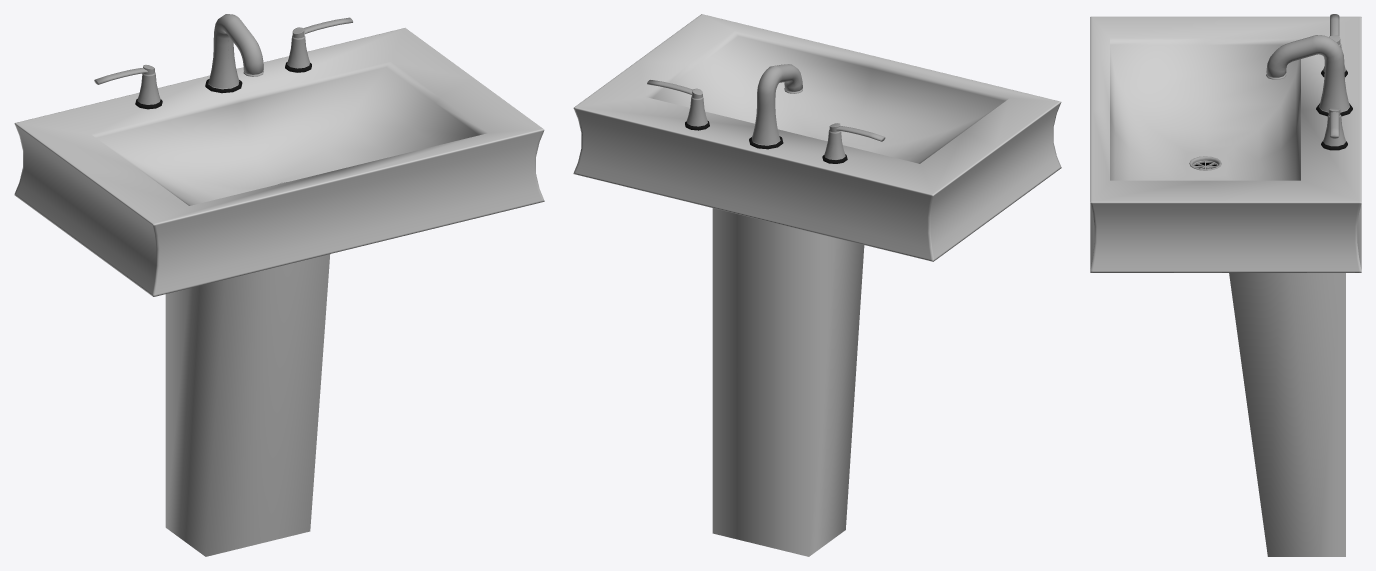
File: BathroomSink.fbx
The picture shows the model from 3 angles, left to right: view 1: azimuth 30°, elevation 25°; view 2: azimuth 150°, elevation 25°; view 3: azimuth 270°, elevation 25°; orthographic projection. The views are drawn at different scales.
Parts seen in each view (by area): view 1: Cube, Circle.001; view 2: Cube, Circle.001; view 3: Cube, Circle.001.
Boxes of the visible parts, x1,y1,x2,y2 form: Cube: (14, 28, 544, 556); Circle.001: (94, 14, 352, 184); Cube: (573, 14, 1061, 556); Circle.001: (647, 64, 885, 163); Cube: (1090, 16, 1361, 556); Circle.001: (1189, 14, 1352, 170).
Size of the model in its own units: 324 by 403 by 200.
